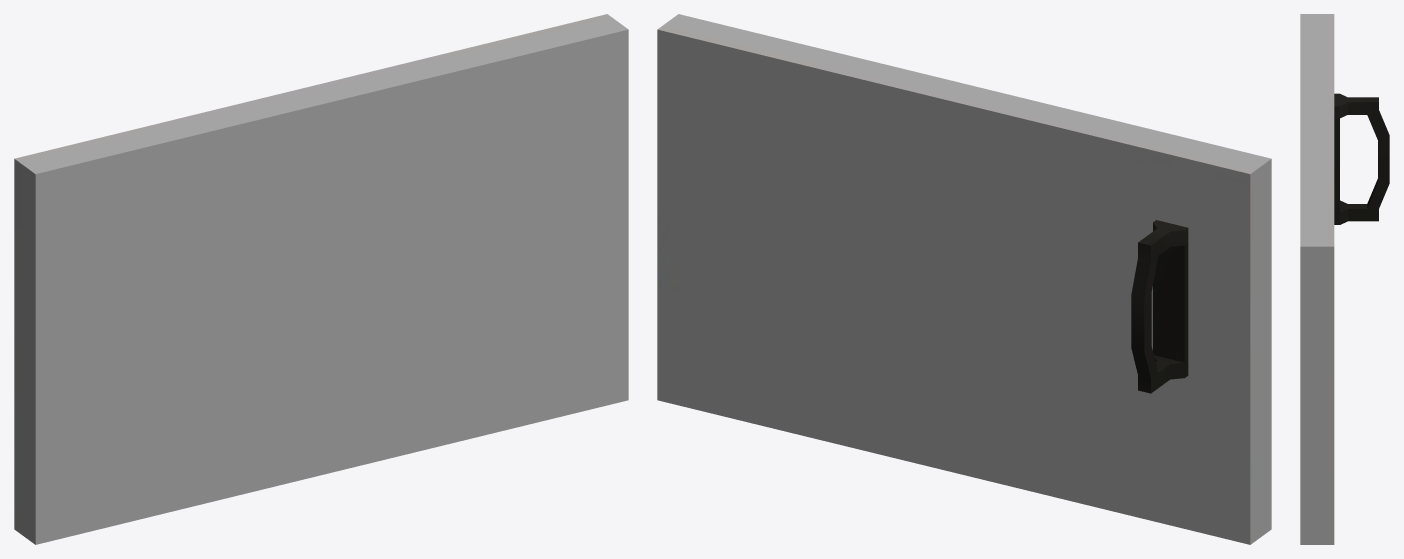
File: PuertaCajon2.fbx
The picture shows the model from 3 angles, left to right: view 1: azimuth 30°, elevation 25°; view 2: azimuth 150°, elevation 25°; view 3: azimuth 270°, elevation 25°; orthographic projection. The views are drawn at different scales.
Visible parts, largest first — view 1: Cylinder.017; view 2: Cylinder.017; view 3: Cylinder.017.
Part boxes in pixels (<box>): Cylinder.017: <box>14,14,628,544</box>; Cylinder.017: <box>657,14,1271,544</box>; Cylinder.017: <box>1300,14,1389,544</box>.
Size of the model in its own units: 94.54 by 56.48 by 15.39.
